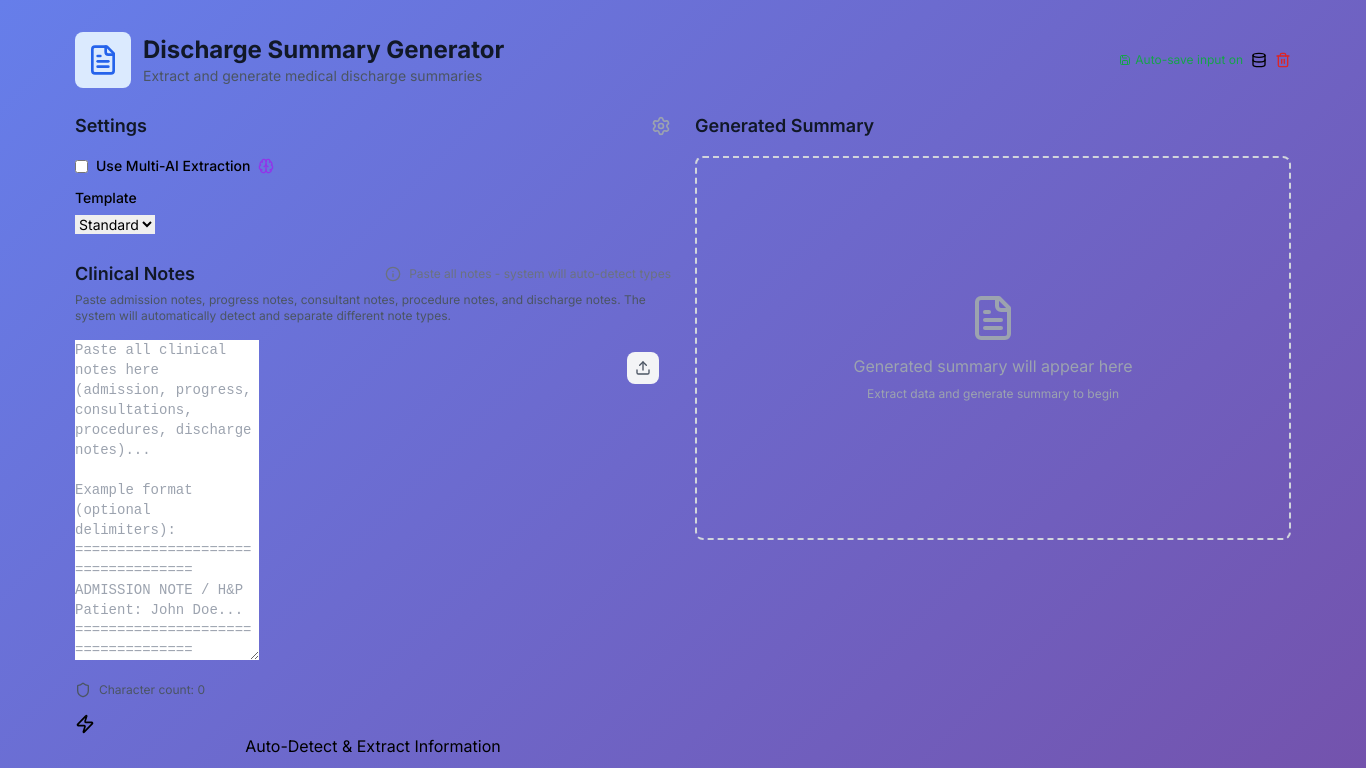
Scenario: DischargeSummaryGenerator - Comprehensive Tests › Clear All Functionality › clears all data when trash button is clicked and confirmed
In the text box with placeholder "Paste all clinical notes here": (167, 500) [75,340,259,660], type "Some clinical notes"
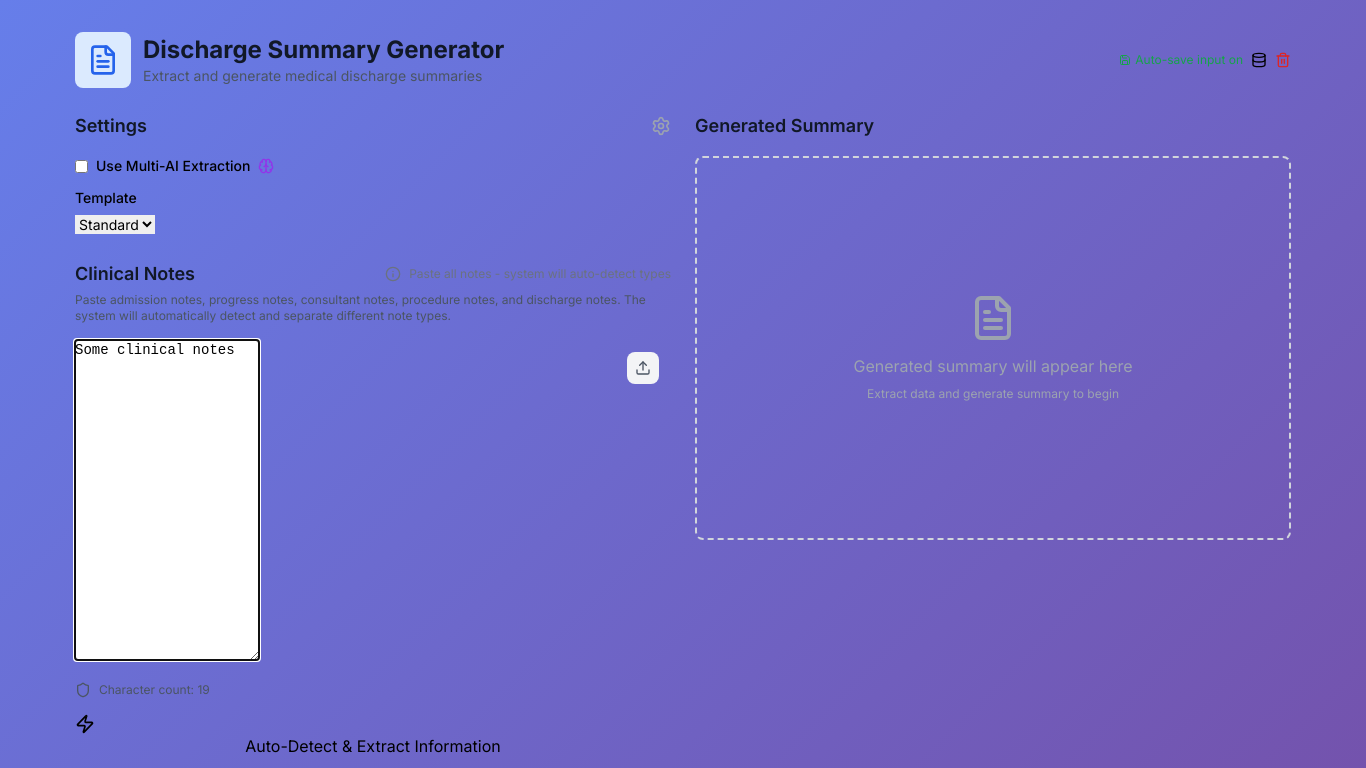
Click the button titled "Clear all data": (1283, 60) [1275,52,1291,68]
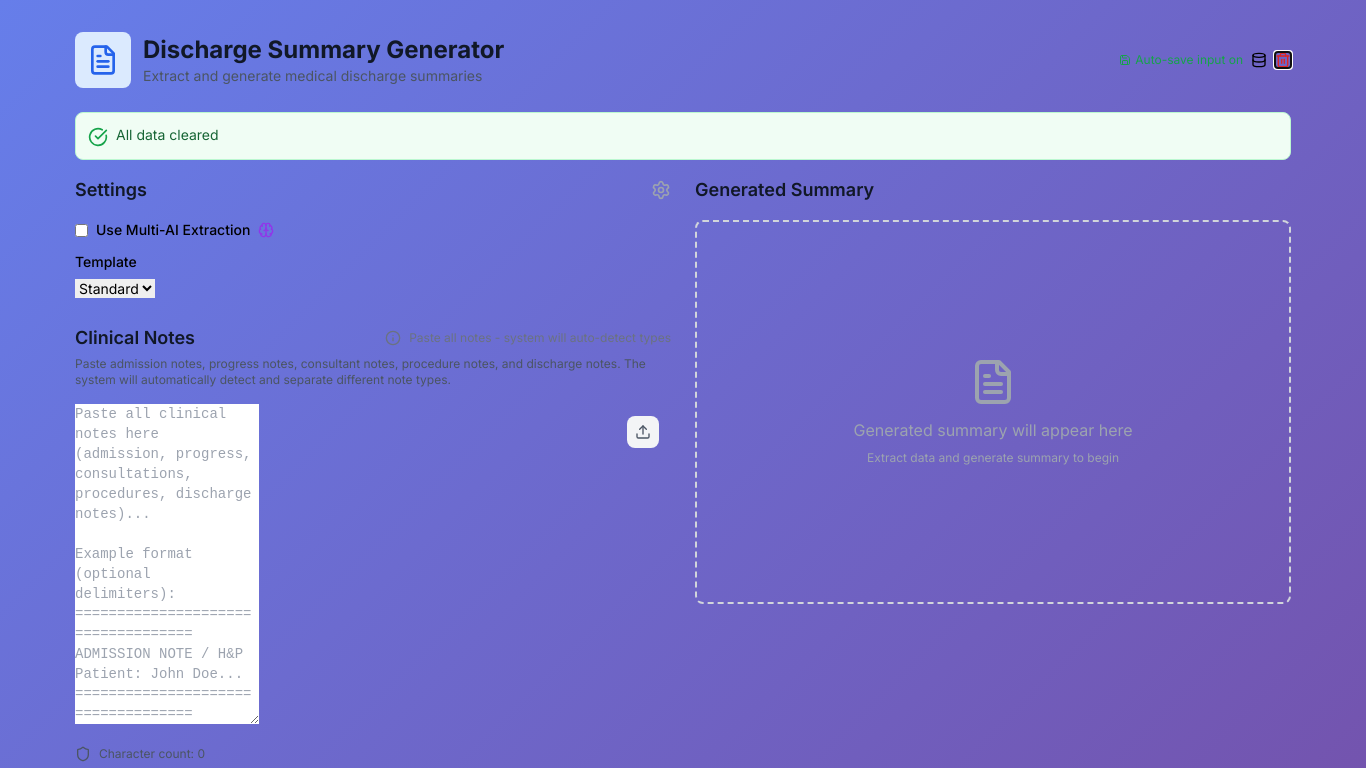
Result: the text box with placeholder "Paste all clinical notes here" is empty at [75,404,259,724]
